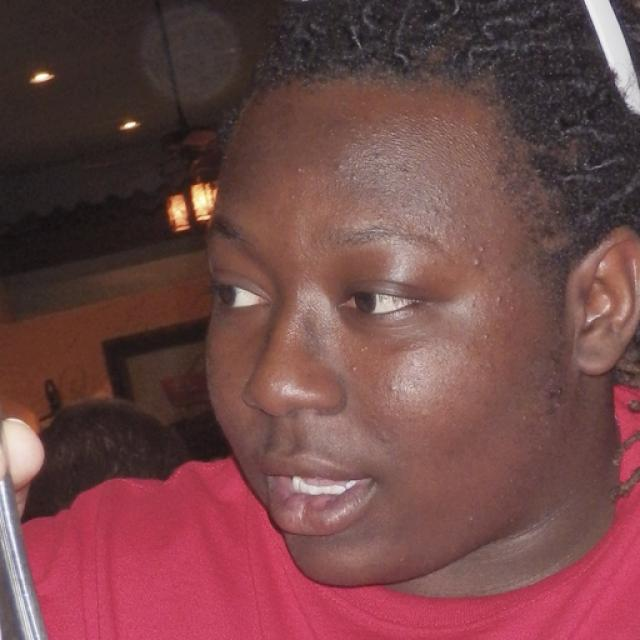Acne: (473, 319, 502, 350), (463, 247, 488, 274), (343, 357, 369, 382), (376, 380, 401, 399), (286, 162, 312, 179), (454, 227, 472, 251), (467, 241, 491, 258), (490, 291, 510, 310), (331, 156, 349, 177), (347, 173, 363, 185)
